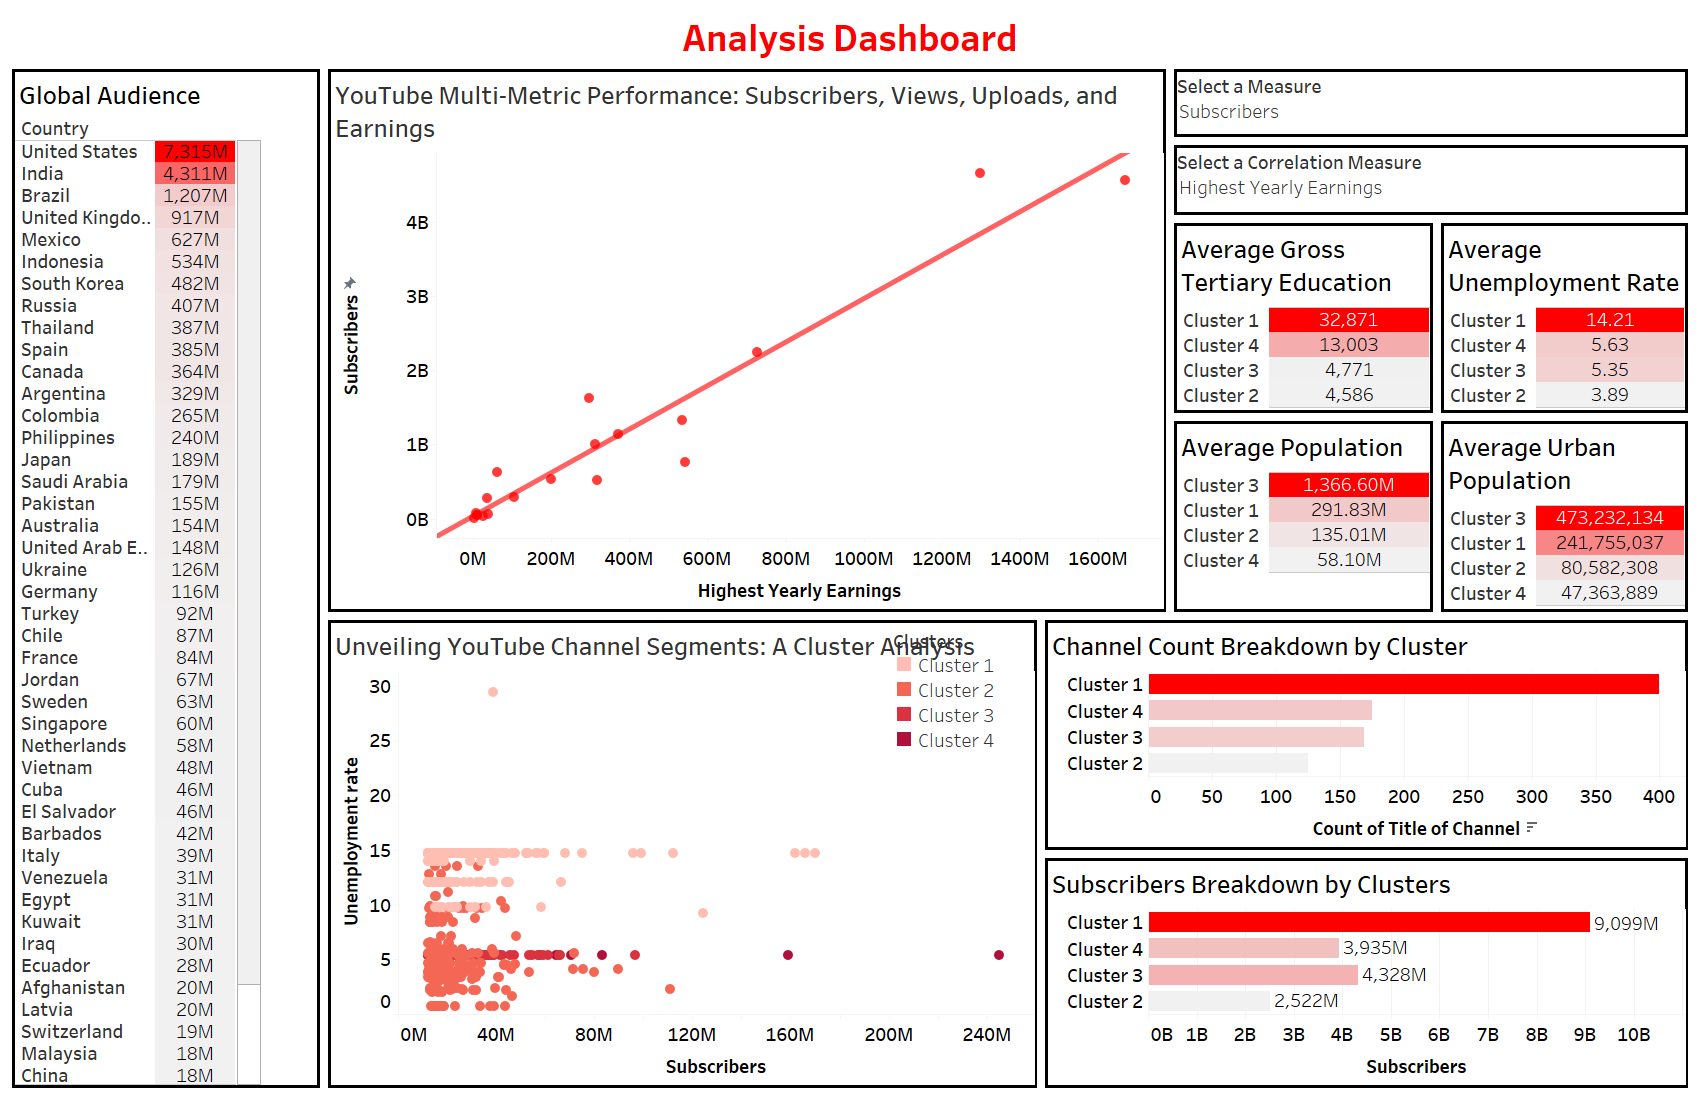

Layout of this report page (visuals, bound fields, positions):
{"tool":"tableau","page":{"name":"Analysis Dashboard","canvas":[1300,900],"ordinal":0},"visuals":[{"type":"title","box":[8,8,1284,42]},{"type":"worksheet","title":"Global Audience","mark":"Square","rows":["Country"],"box":[8,50,241.1,842]},{"type":"worksheet","title":"YouTube Multi-Metric Performance: Subscribers, Views, Uploads, and Earnings","mark":"Circle","rows":["Calculation_329607202258743304"],"cols":["Measure Formula (copy)_329607202259218441"],"box":[249.1,50,644.9,451.6]},{"type":"parameter","param":"[Parameters].[Parameter 1]","box":[893.9,50,398.1,62.4]},{"type":"parameter","param":"[Parameters].[Select a Measure (copy)_329607202258354183]","box":[893.9,112.4,398.1,63.6]},{"type":"worksheet","title":"Average Gross Tertiary Education","mark":"Square","box":[893.9,175.9,203.5,162.9]},{"type":"worksheet","title":"Average Unemployment Rate","mark":"Square","box":[1097.5,175.9,194.5,162.9]},{"type":"worksheet","title":"Average Population","mark":"Square","box":[893.9,338.8,203.5,162.9]},{"type":"worksheet","title":"Average Urban Population","mark":"Square","box":[1097.5,338.8,194.5,162.9]},{"type":"worksheet","title":"Unveiling YouTube Channel Segments: A Cluster Analysis","mark":"Circle","rows":["Unemployment rate"],"cols":["subscribers"],"box":[249.1,501.7,546.6,390.3]},{"type":"worksheet","title":"Channel Count Breakdown by Cluster","mark":"Automatic","cols":["Calculation_329607202187517955"],"box":[795.6,501.7,496.4,195.1]},{"type":"legend","title":"Unveiling YouTube Channel Segments: A Cluster Analysis","param":"[federated.05mbxdf0eyw8nj1fy7s4w1axoyhm].[none:AdhocCluster:5:ok]","box":[682.1,512.5,107.1,106.1]},{"type":"worksheet","title":"Subscribers Breakdown by Clusters","mark":"Automatic","cols":["subscribers"],"box":[795.6,696.8,496.4,195.2]}]}

Visuals, with their boxes on the page's 1300x900 design canvas (x1, y1, x2, y2). These are canvas units, not pixel positions in the 1700x1100 screenshot, which may show the page scaled, cropped or inside an application window:
title: bbox=(8, 8, 1292, 50)
"Global Audience" worksheet (Square marks): bbox=(8, 50, 249, 892)
"YouTube Multi-Metric Performance: Subscribers, Views, Uploads, and Earnings" worksheet (Circle marks): bbox=(249, 50, 894, 502)
parameter: bbox=(894, 50, 1292, 112)
parameter: bbox=(894, 112, 1292, 176)
"Average Gross Tertiary Education" worksheet (Square marks): bbox=(894, 176, 1097, 339)
"Average Unemployment Rate" worksheet (Square marks): bbox=(1098, 176, 1292, 339)
"Average Population" worksheet (Square marks): bbox=(894, 339, 1097, 502)
"Average Urban Population" worksheet (Square marks): bbox=(1098, 339, 1292, 502)
"Unveiling YouTube Channel Segments: A Cluster Analysis" worksheet (Circle marks): bbox=(249, 502, 796, 892)
"Channel Count Breakdown by Cluster" worksheet: bbox=(796, 502, 1292, 697)
"Unveiling YouTube Channel Segments: A Cluster Analysis" legend: bbox=(682, 512, 789, 619)
"Subscribers Breakdown by Clusters" worksheet: bbox=(796, 697, 1292, 892)
